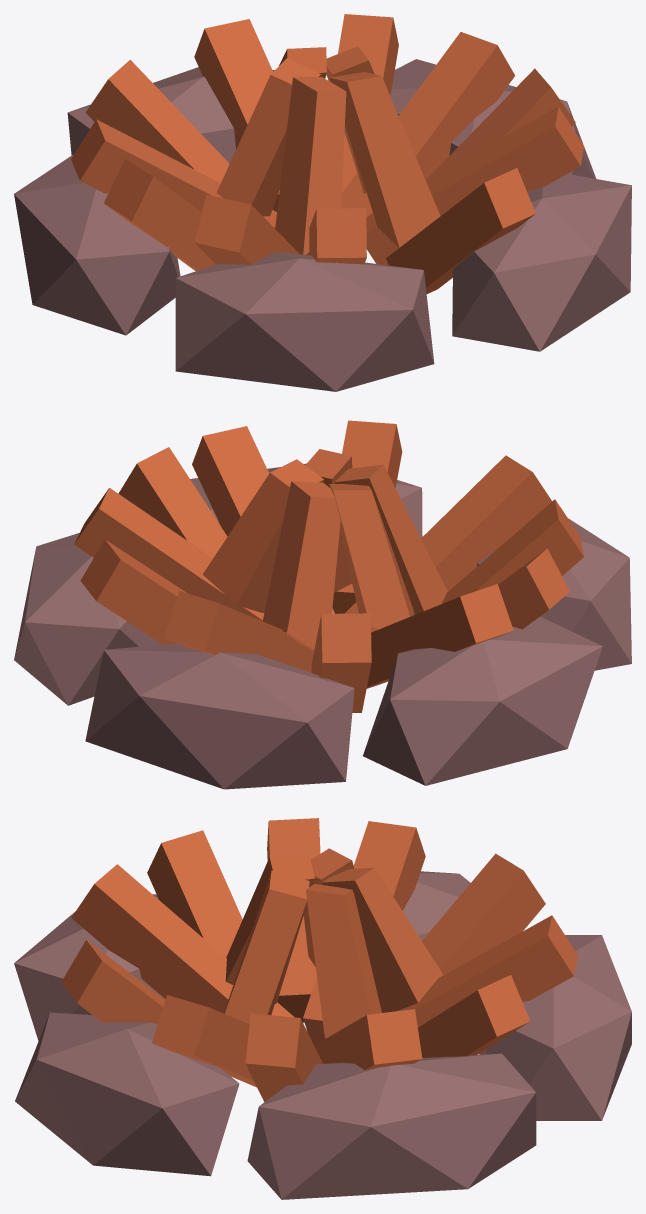
Rendered from bonfire.fbx.
3 renders of one model, top to bottom at view 1: azimuth 30°, elevation 25°; view 2: azimuth 150°, elevation 25°; view 3: azimuth 270°, elevation 25°, orthographic. The views are drawn at different scales.
Parts seen in each view (by area): view 1: BonfireWood, BonfireRocks; view 2: BonfireWood, BonfireRocks; view 3: BonfireWood, BonfireRocks.
Boxes of the visible parts, box(x1,y1,x2,y2) form: BonfireWood: box(71, 14, 583, 293); BonfireRocks: box(14, 59, 631, 391); BonfireWood: box(74, 420, 583, 712); BonfireRocks: box(14, 463, 631, 789); BonfireWood: box(61, 818, 577, 1101); BonfireRocks: box(14, 871, 631, 1199).
Size of the model in its own units: 87.77 by 31.33 by 86.26.
